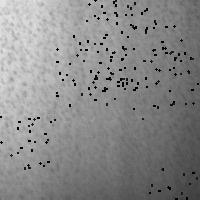pitted_surface: (1, 1, 199, 197), (102, 58, 157, 118), (73, 35, 133, 89), (56, 48, 110, 104), (121, 20, 180, 69), (0, 116, 54, 167), (86, 0, 146, 36), (149, 167, 200, 200), (169, 51, 200, 104)
